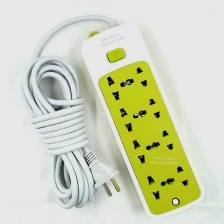three_eye_plug: (78, 18, 206, 221)
